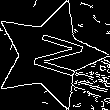N_W: (18, 28, 81, 82)
